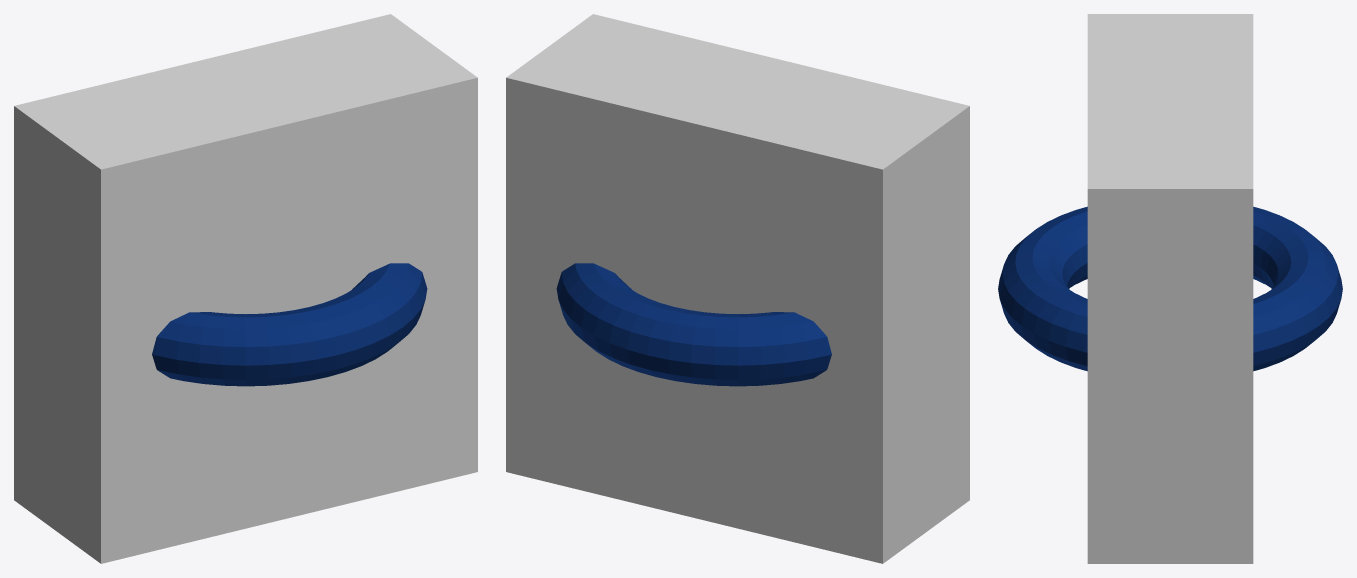
The model's file is universe.glb.
The picture shows the model from 3 angles, left to right: view 1: azimuth 30°, elevation 25°; view 2: azimuth 150°, elevation 25°; view 3: azimuth 270°, elevation 25°; orthographic projection. The views are drawn at different scales.
Visible parts, largest first — view 1: Dust, Environment; view 2: Dust, Environment; view 3: Dust, Environment.
Boxes of the visible parts, x1=… form: Dust: x1=14, y1=14, x2=477, y2=563; Environment: x1=152, y1=263, x2=427, y2=386; Dust: x1=506, y1=14, x2=969, y2=563; Environment: x1=556, y1=263, x2=831, y2=386; Dust: x1=1087, y1=14, x2=1253, y2=563; Environment: x1=998, y1=206, x2=1342, y2=371.
Size of the model in its own units: 150 by 150 by 125.
